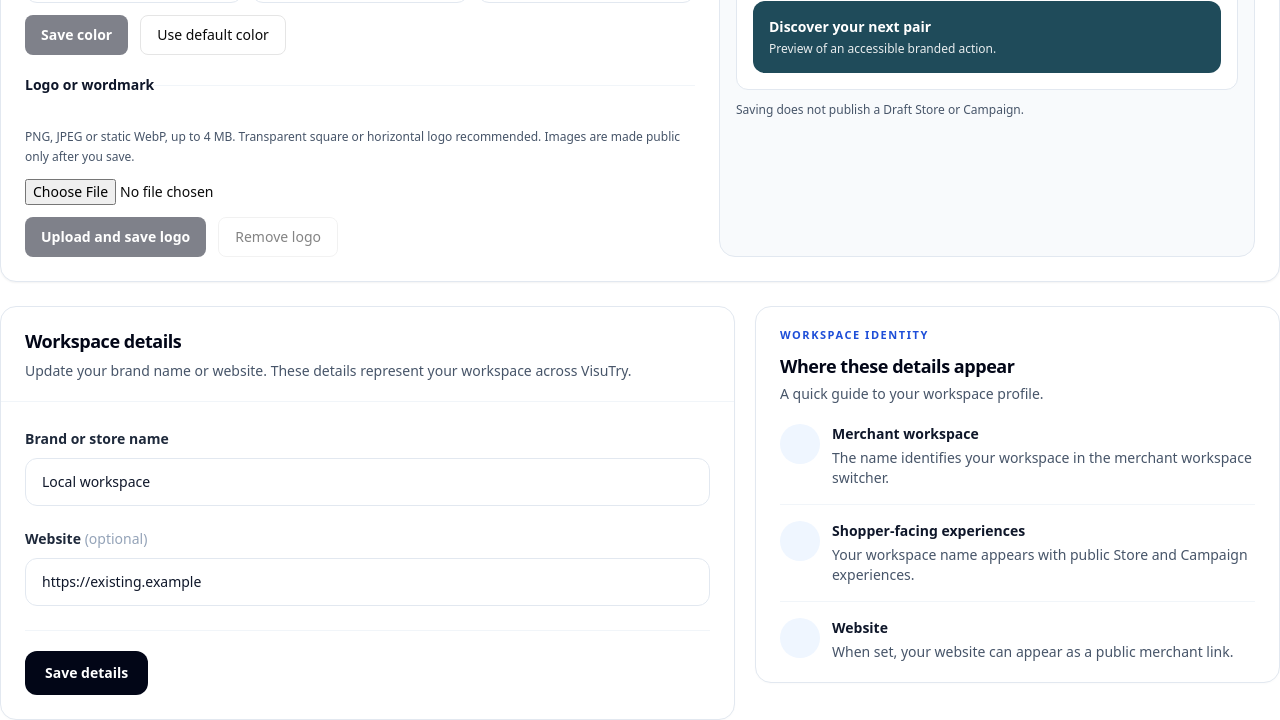
Test case: MerchantWorkspaceSettings › announces API errors accessibly and retains entered values
The image size is (1280, 720).
(page scrolled)
Replace the text in the field labelled "Website (optional)" with "not a URL" at point(368, 582), box x1=25 y1=558 x2=710 y2=606
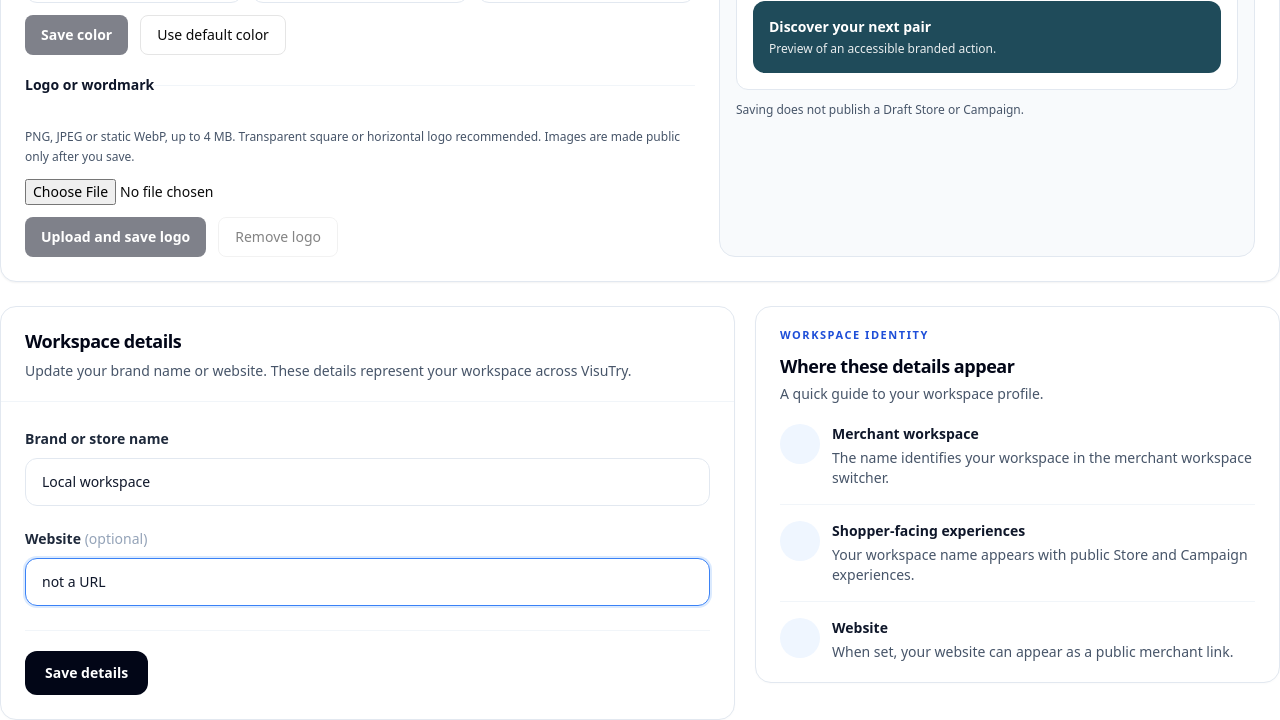
Click the button "Save details" at point(87, 673), box x1=25 y1=651 x2=148 y2=695
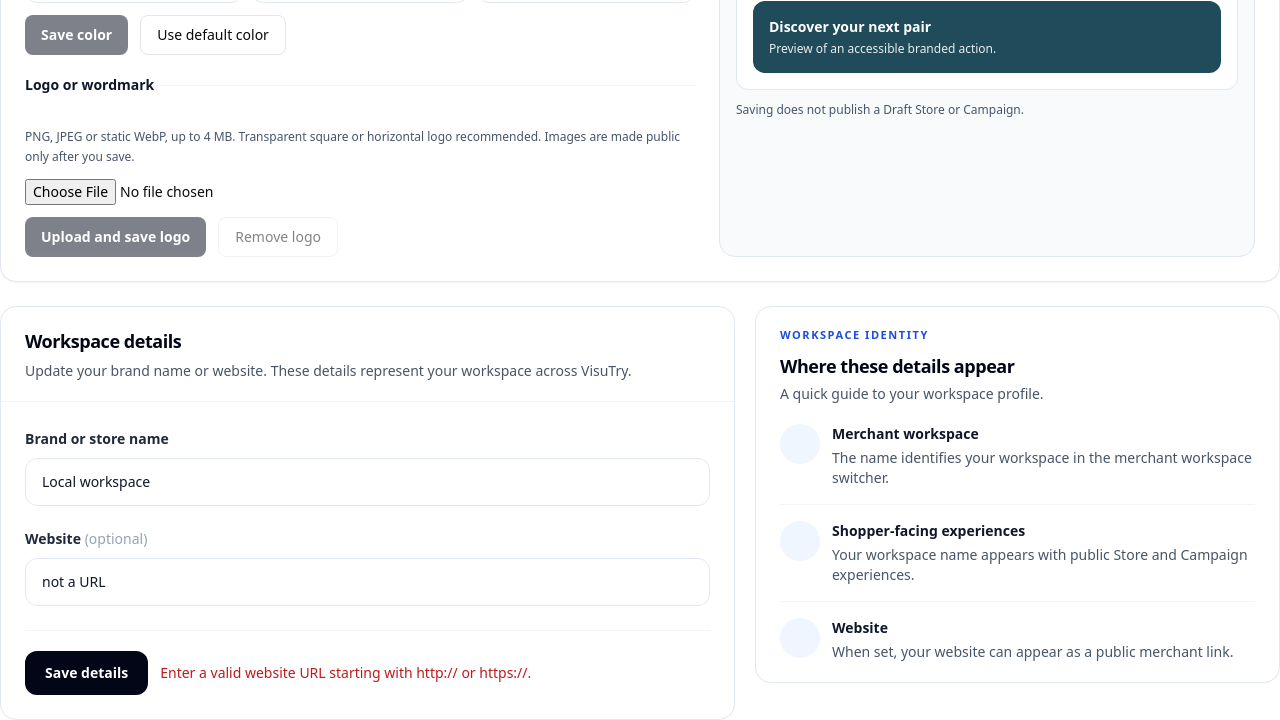
Check: the message reads "Enter a valid website URL starting with http:// or https://.", box x1=160 y1=663 x2=531 y2=682
